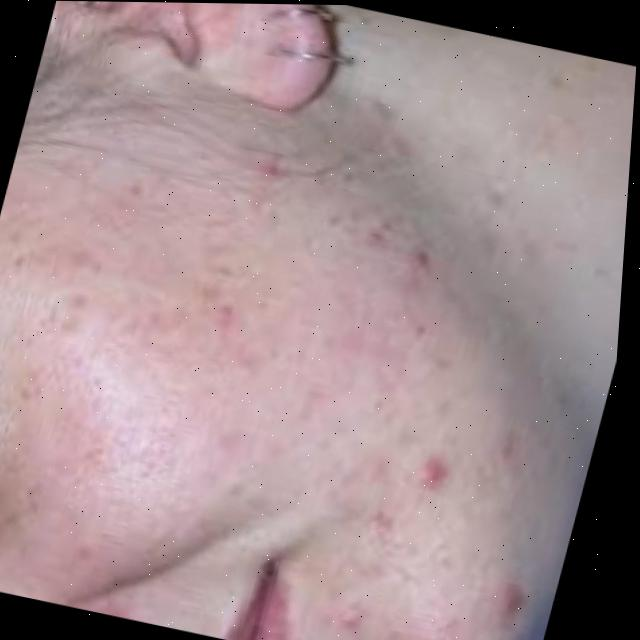Acne: (0, 131, 629, 640)
